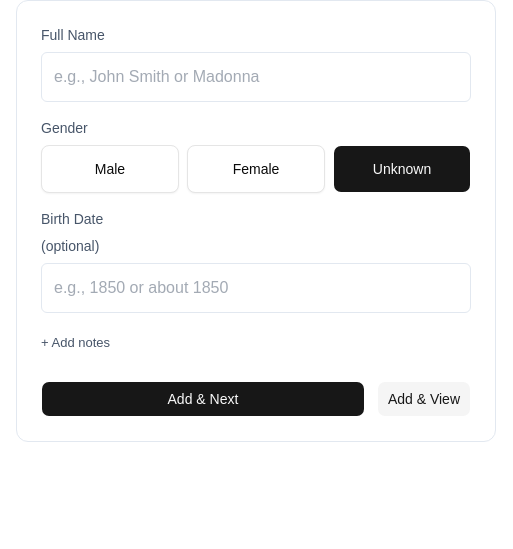
Test: QuickCapture dates (#996) › says what a converted birth date was saved as
Type "Ada Lovelace" into the field labelled "Full Name" at coordinates (256, 77), box [41,52,471,102]
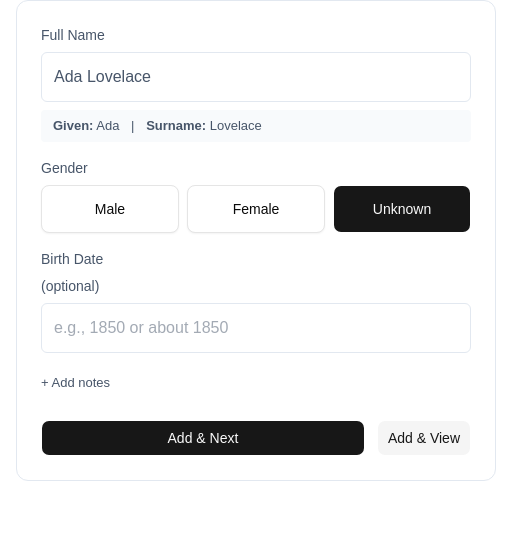
Type "about 1850" into the field labelled "Birth Date (optional)" at coordinates (256, 328), box [41,302,471,352]
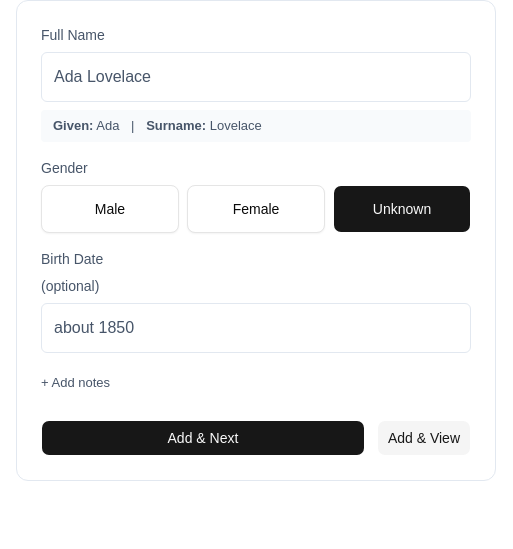
Click the button "Add & Next" at coordinates (203, 438), box [41,420,365,456]
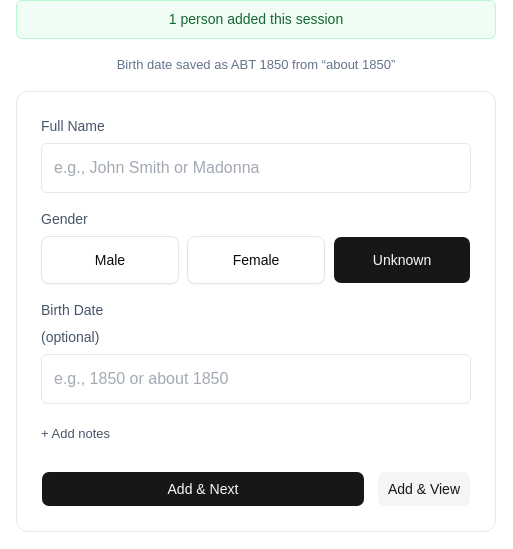
Now the message reads "Birth date saved as ABT 1850 from “about 1850”", box [117,57,395,72]
